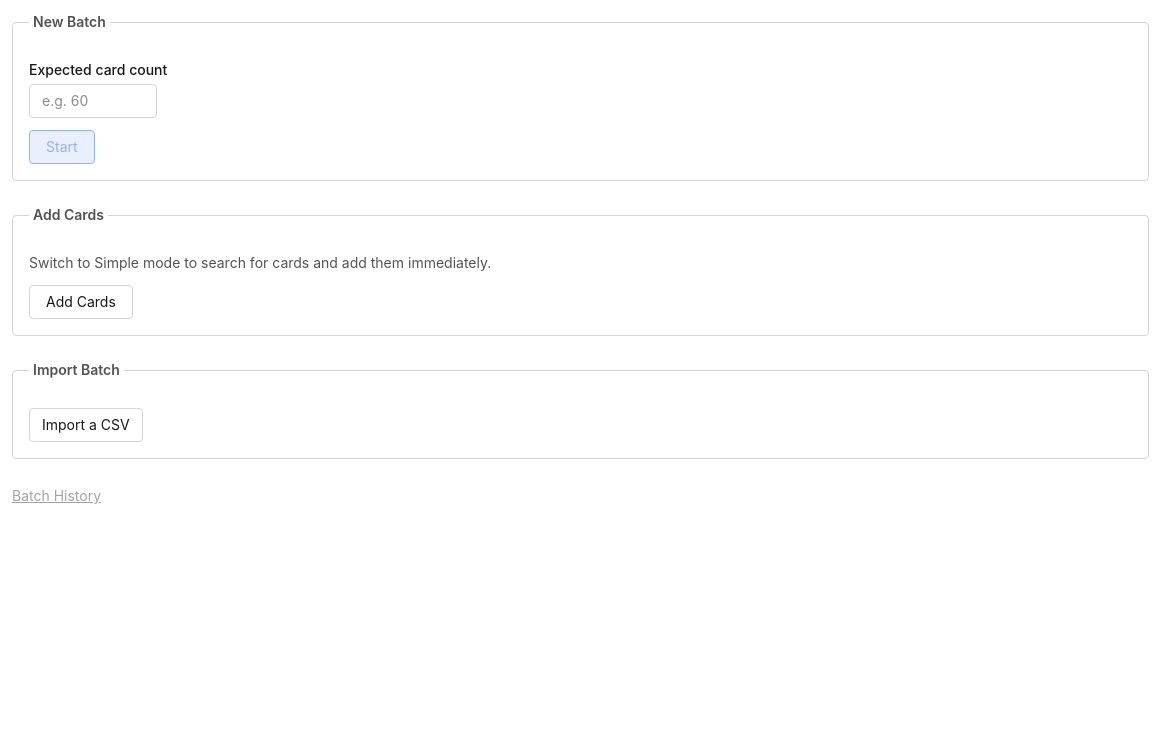
Test: BatchBuilderForm › starting a batch with a valid count shows the active batch UI
The width and height of the screenshot is (1164, 732).
In the number field labelled "Expected card count": (93, 101) 29,84 -> 157,118, type "60"
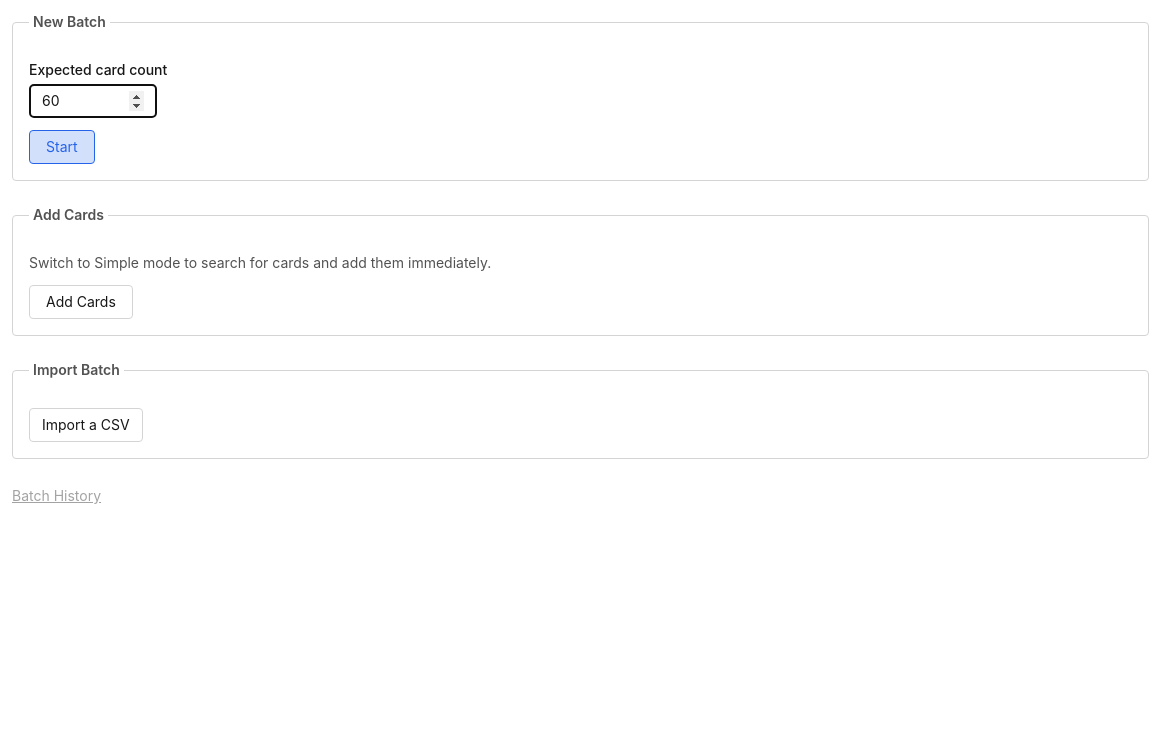
Click the button "Start": click(62, 147) 29,130 -> 95,164
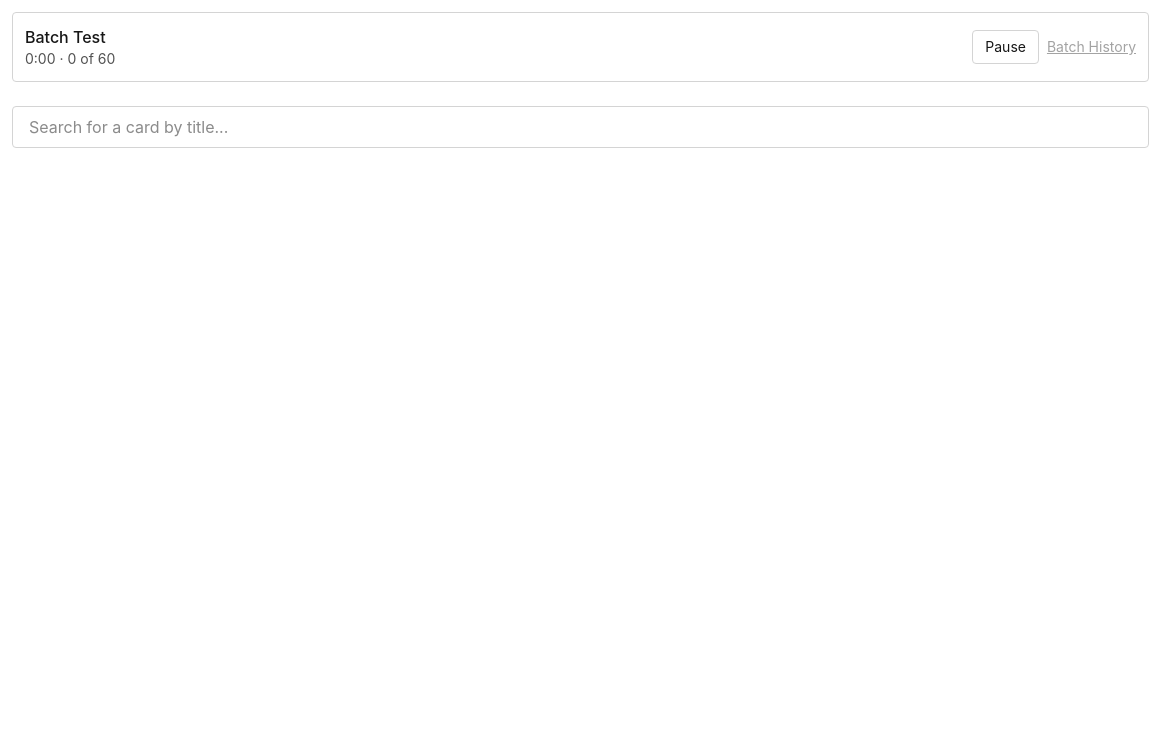
Now the text "Batch Test" is shown, box 25,25 -> 115,49
Now the field with placeholder "Search for a card by title..." is shown, box 12,106 -> 1149,148
